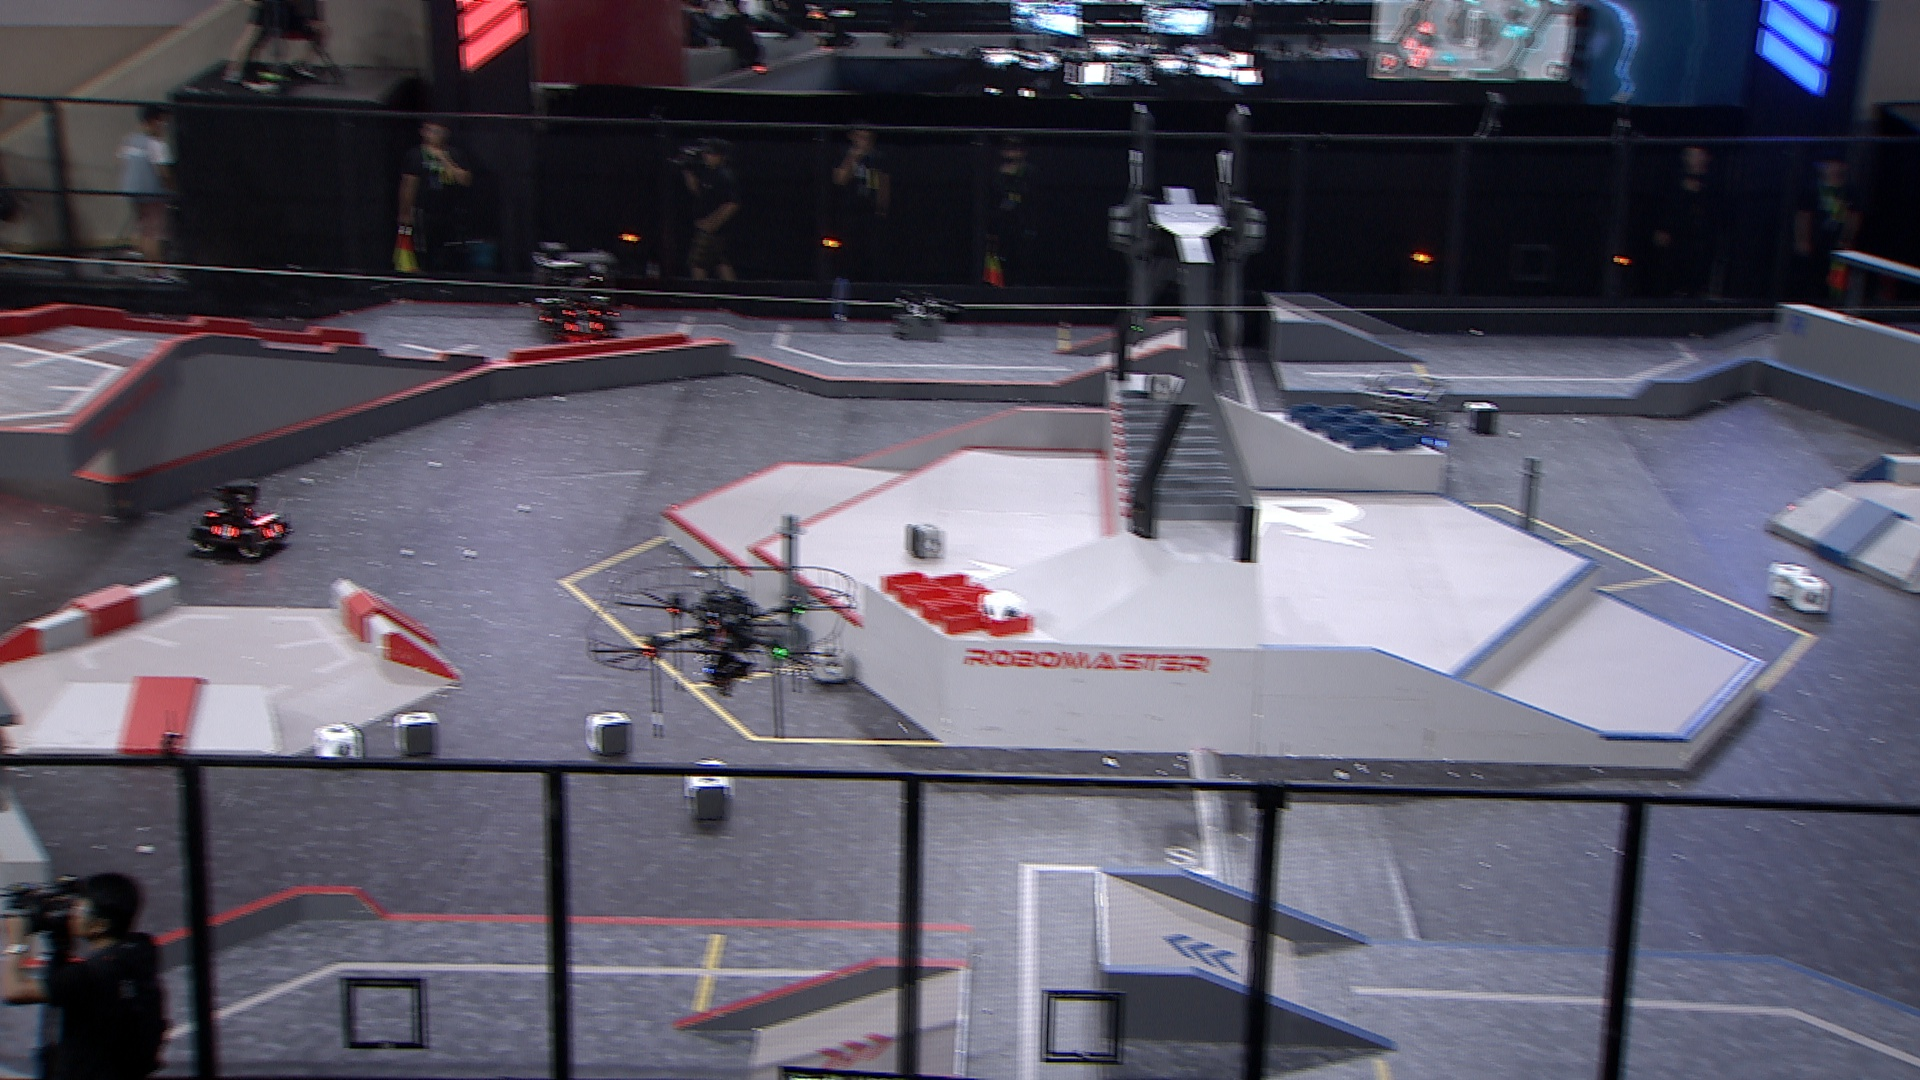armor: (564, 319, 604, 338), (560, 306, 604, 320), (208, 522, 240, 541), (262, 522, 286, 541)
car: (531, 237, 621, 344), (187, 472, 294, 562), (1354, 371, 1449, 465)
